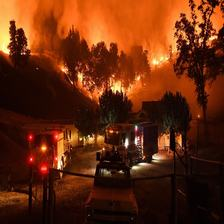fire: (59, 30, 179, 97)
